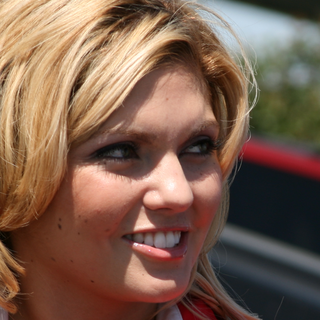eye: (90, 138, 146, 169), (178, 131, 216, 162)
